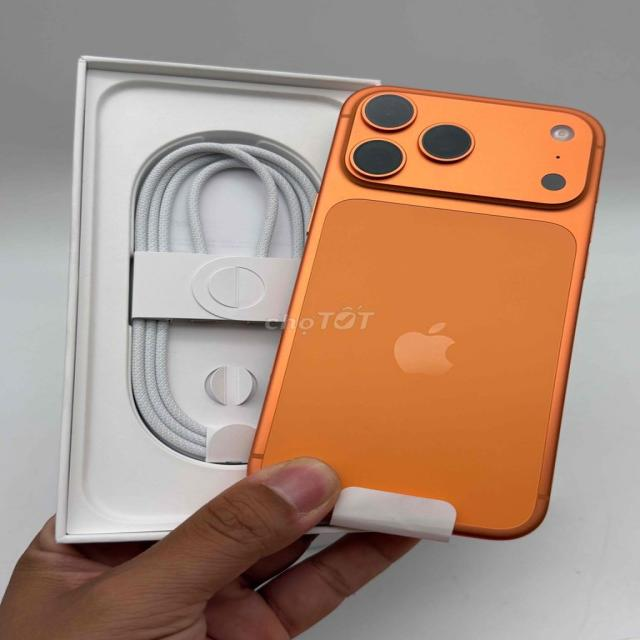gen_17: (261, 86, 608, 542)
